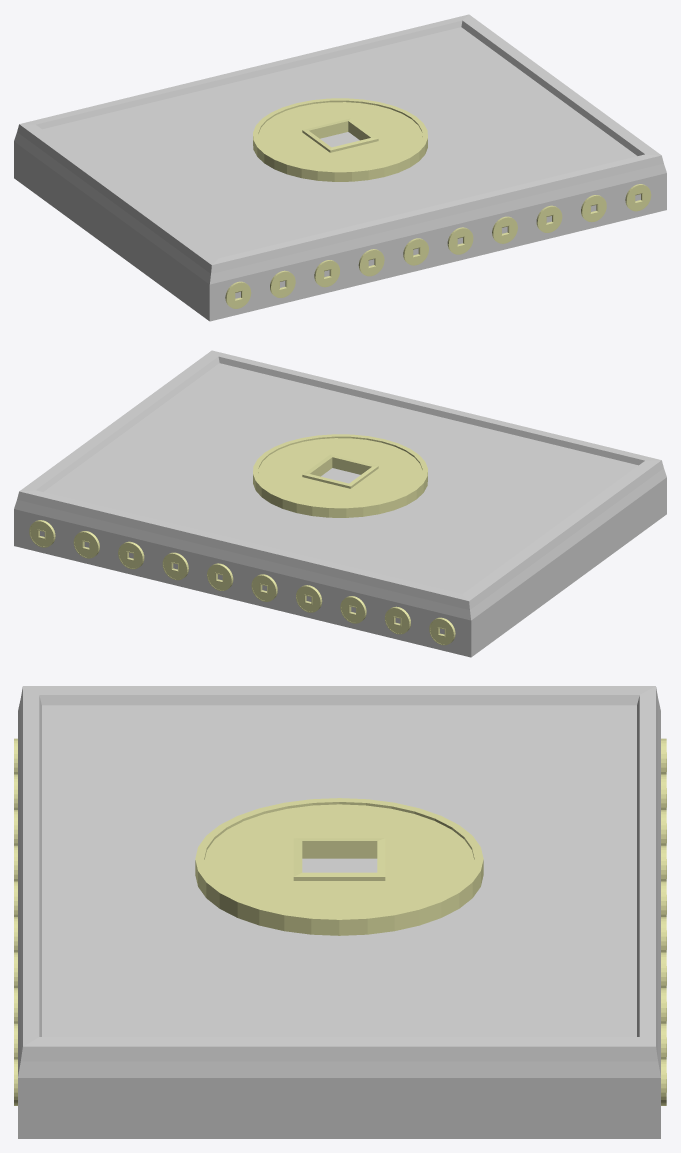
File: avatar.fbx
3 views of the same model, one above another, from view 1: azimuth 30°, elevation 25°; view 2: azimuth 150°, elevation 25°; view 3: azimuth 270°, elevation 25° (orthographic). The views are drawn at different scales.
Parts seen in each view (by area): view 1: Cube.001, Cube, Cylinder, Cylinder.004; view 2: Cube.001, Cube, Cylinder, Cylinder.001; view 3: Cube.001, Cube, Cylinder, Cylinder.001, Cylinder.004.
Boxes of the visible parts, x1,y1,x2,y2 form: Cube.001: [42, 27, 637, 258]; Cube: [14, 14, 666, 321]; Cylinder: [253, 98, 427, 181]; Cylinder.004: [225, 184, 651, 308]; Cube.001: [43, 363, 638, 594]; Cube: [14, 350, 666, 657]; Cylinder: [253, 434, 427, 517]; Cylinder.001: [29, 520, 455, 645]; Cube.001: [42, 705, 636, 1036]; Cube: [18, 686, 660, 1138]; Cylinder: [195, 798, 483, 935]; Cylinder.001: [661, 738, 666, 1105]; Cylinder.004: [14, 738, 17, 1105].
Size of the model in its own units: 4408 by 552 by 3319.
